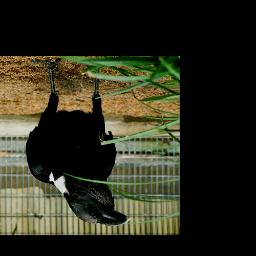Crow: (26, 57, 133, 227)
